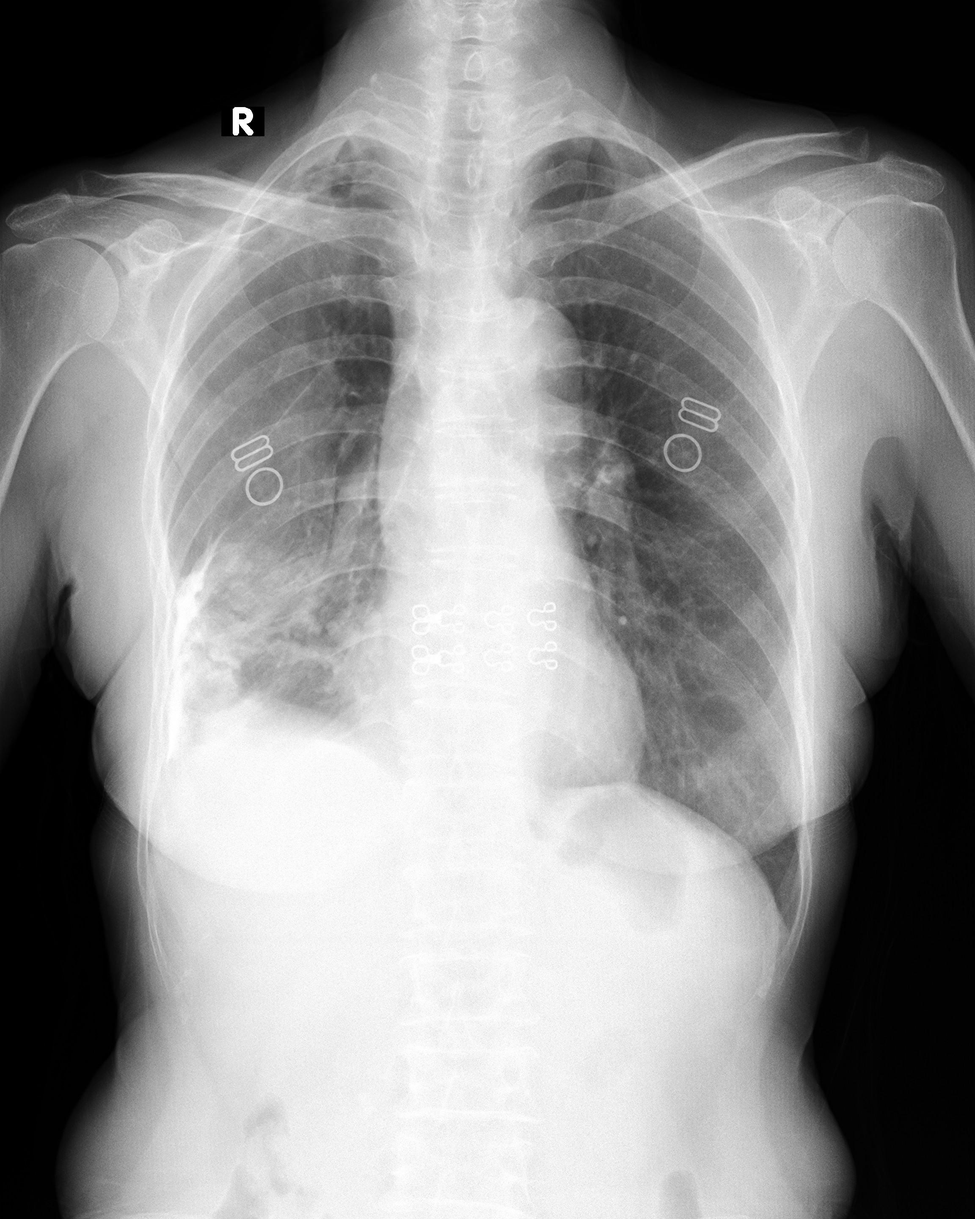Pleural thickening: (164, 524, 226, 657), (268, 130, 345, 176)
Pulmonary fibrosis: (297, 159, 377, 195)
